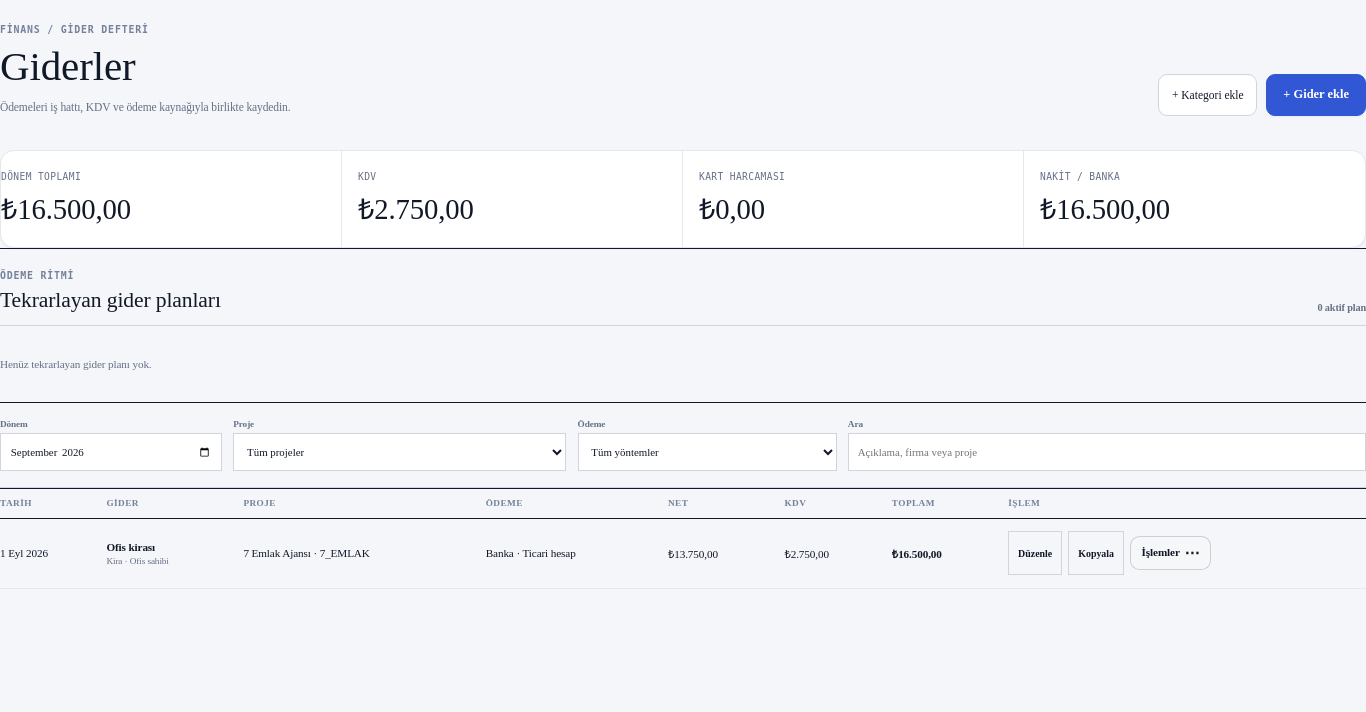
Test: ExpensesWorkspace › keeps an existing expense edit intact while adding a category
The width and height of the screenshot is (1366, 712).
Expected: the text "Ofis kirası" is shown, [106,540,155,552]
Click the button with aria-label "Ofis kirası giderini düzenle" at (1035, 553), box [1008,531,1062,575]
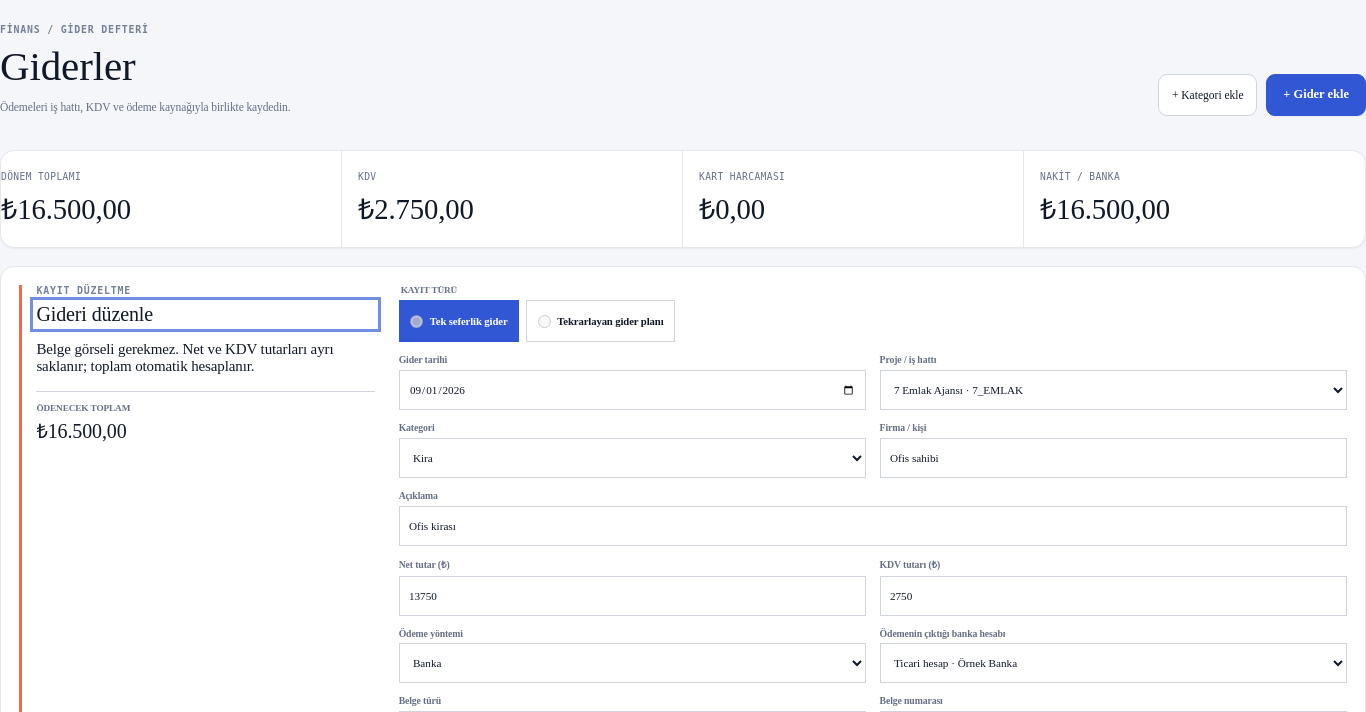
Click the button "+ Kategori ekle" at (1208, 95), box [1158,74,1257,116]
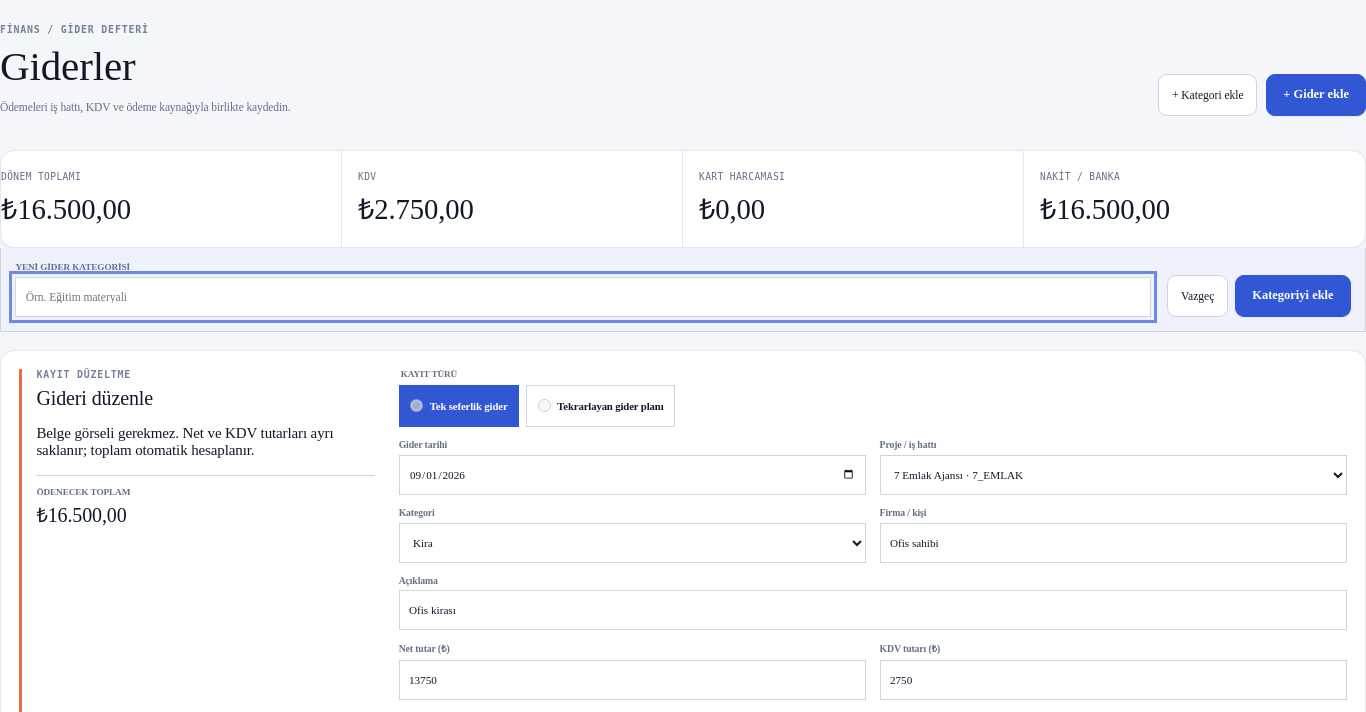
Type "Saha ekipmanı" into the field labelled "Yeni gider kategorisi" at (583, 297), box [15,277,1151,317]
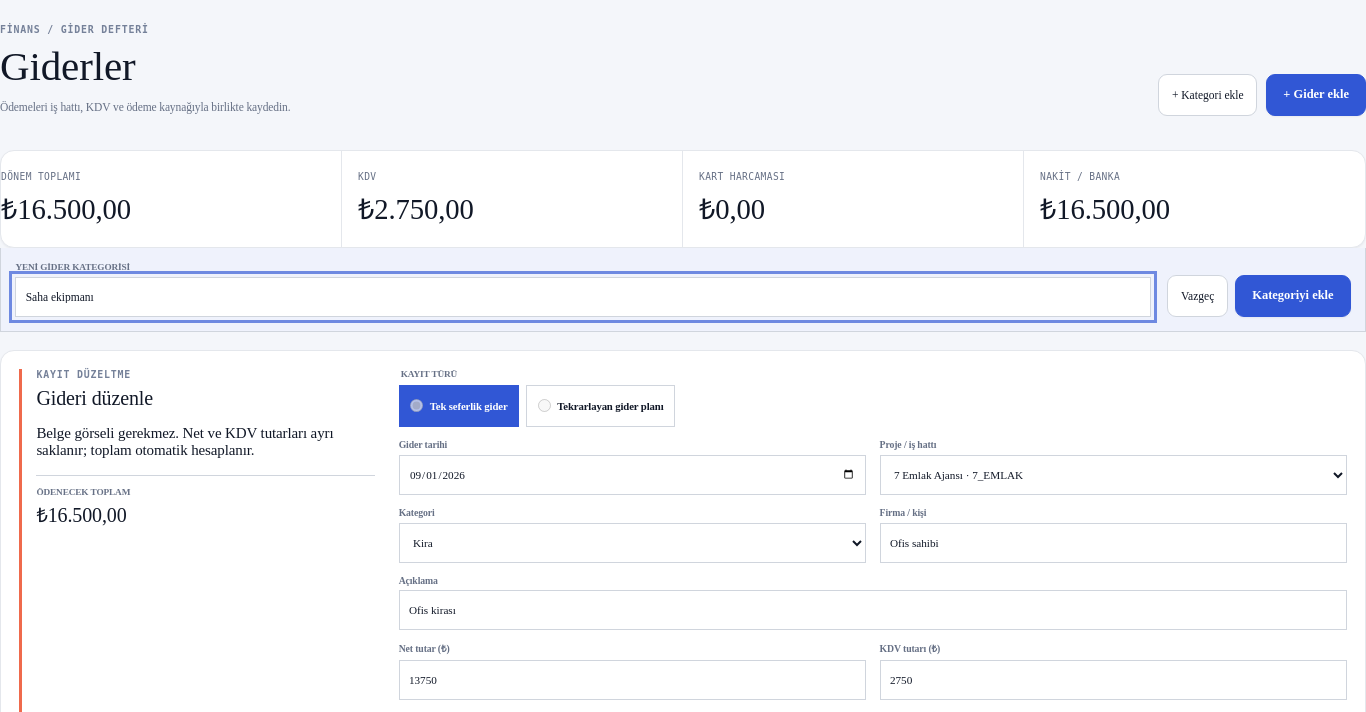
Click the button "Kategoriyi ekle" at (1293, 296), box [1235,275,1351,317]
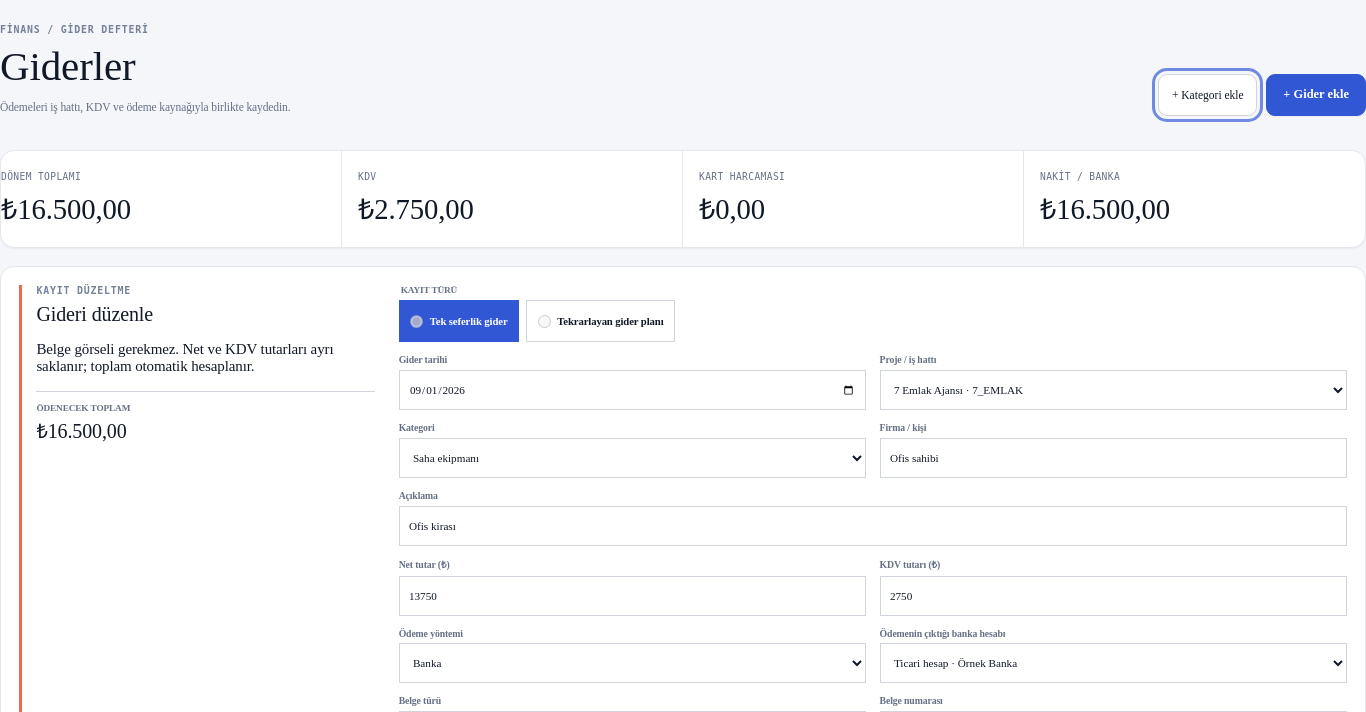
Expected: the heading "Gideri düzenle" is shown, [36,302,153,324]
Expected: the field labelled "Net tutar (₺)" holds "13750", [399,576,866,616]
Expected: the dropdown labelled "Kategori" shows "Saha ekipmanı", [399,438,866,478]
